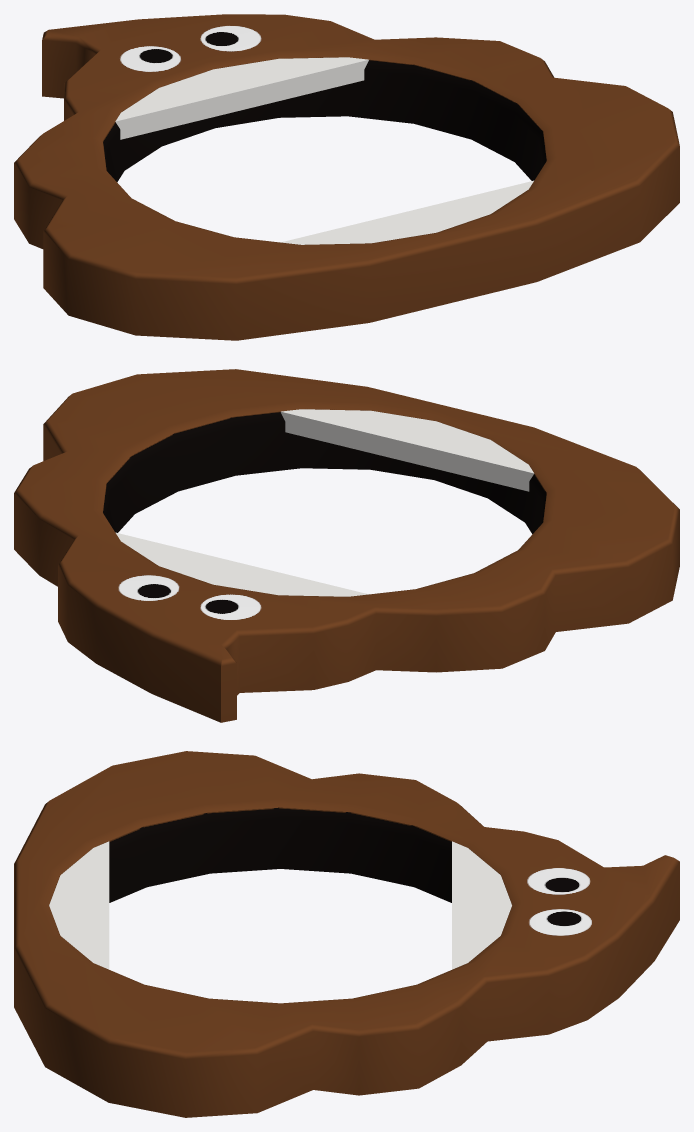
Rendered from HolePool.fbx.
3 views of the same model, one above another, from view 1: azimuth 30°, elevation 25°; view 2: azimuth 150°, elevation 25°; view 3: azimuth 270°, elevation 25° (orthographic). The views are drawn at different scales.
Visible parts, largest first — view 1: hole, teeth; view 2: hole, teeth; view 3: hole, teeth.
Boxes of the visible parts, x1,y1,x2,y2 form: hole: (14,14,679,340); teeth: (115,57,533,244); hole: (14,369,679,722); teeth: (115,409,534,596); hole: (14,751,679,1117); teeth: (49,841,511,969).
Bounding box in the file's own units: 3.18 × 0.3072 × 2.93.
